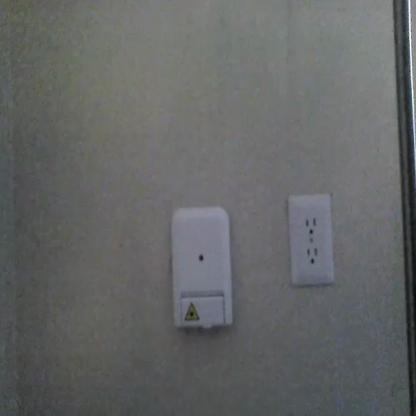OUTLET: (288, 196, 334, 286)
